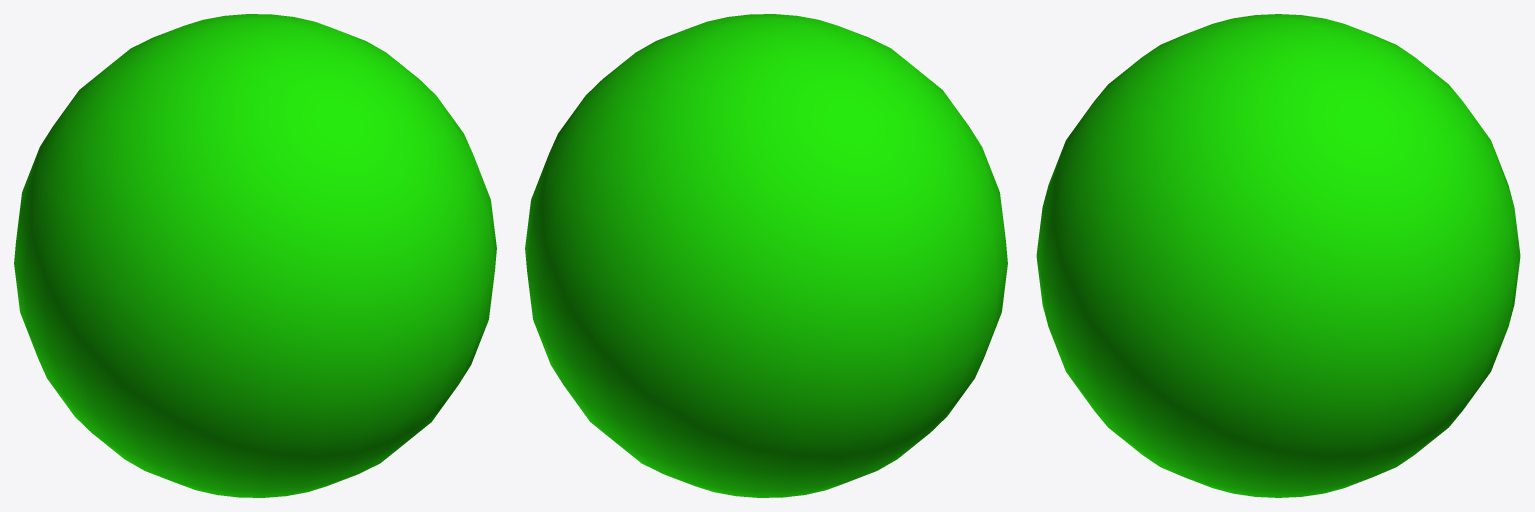
File: BigBall.fbx
3 renders of one model, left to right at view 1: azimuth 30°, elevation 25°; view 2: azimuth 150°, elevation 25°; view 3: azimuth 270°, elevation 25°, orthographic.
Parts seen in each view (by area): view 1: New_Fixed_Ball; view 2: New_Fixed_Ball; view 3: New_Fixed_Ball.
Boxes of the visible parts, x1,y1,x2,y2 form: New_Fixed_Ball: (14,14,496,497); New_Fixed_Ball: (525,14,1007,497); New_Fixed_Ball: (1036,14,1520,497).
Size of the model in its own units: 700 by 700 by 700.
